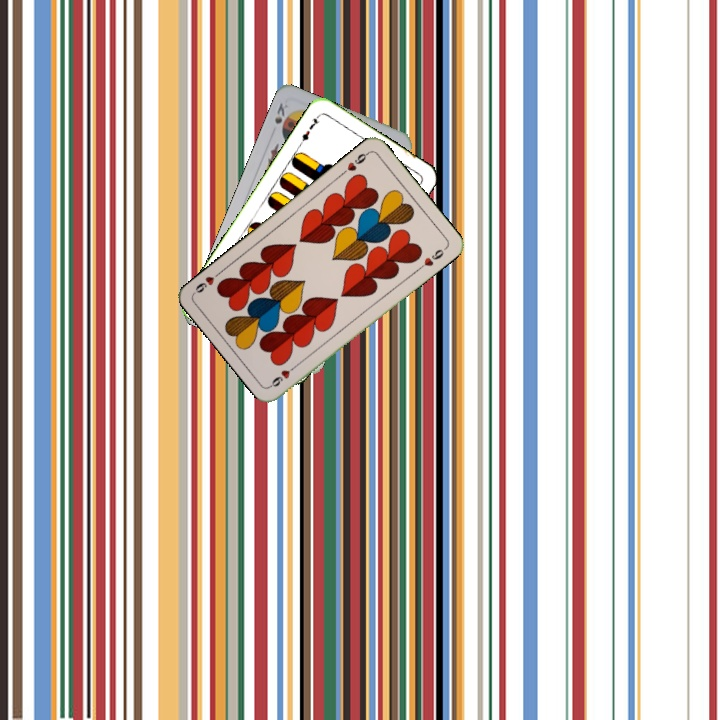E7: (296, 111, 323, 147)
H9: (266, 360, 301, 390), (337, 148, 372, 177)
SK: (270, 99, 291, 126)
